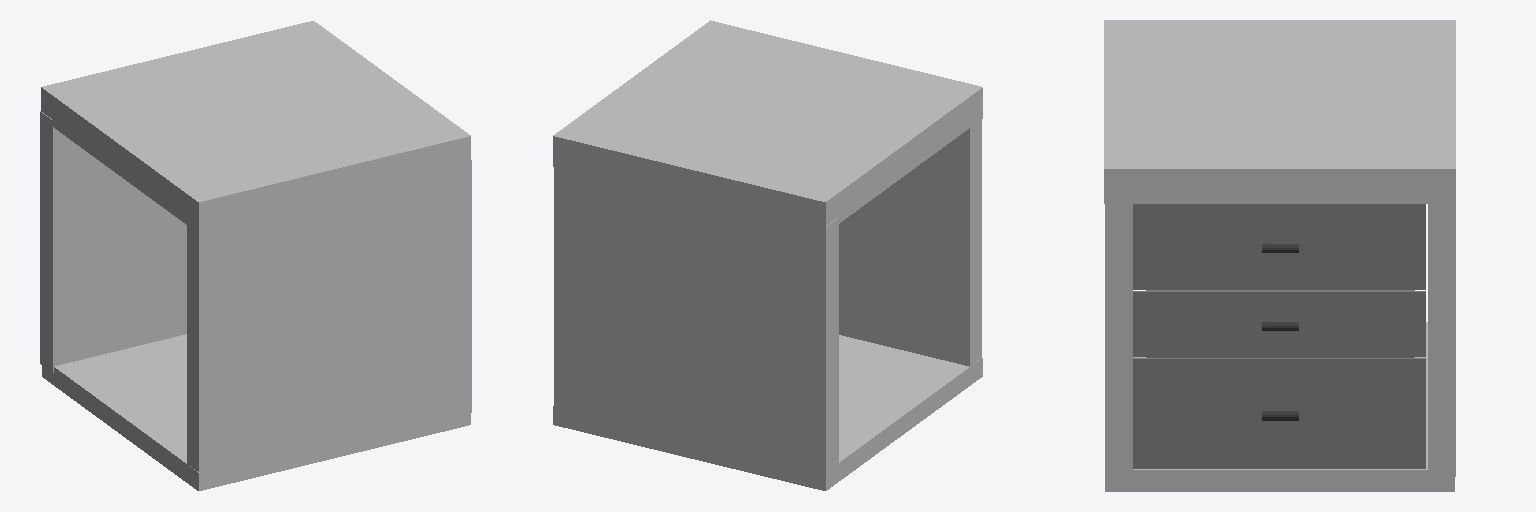
robot.urdf — my_urdf:
<?xml version='1.0' encoding='utf-8'?>
<robot name="my_urdf">

    <link name="base_link">
        <visual>
            <origin xyz="0 0 0" rpy="0.0 0.0 0.0" />
            <material name="white">
                <color rgba="0.8 0.8 0.8 1" />
            </material>
            <geometry>
                <mesh filename="../meshes/cabinet.obj" scale="1 1 1" />
            </geometry>
        </visual>
        <collision>
            <origin xyz="0 0 0" rpy="0.0 0.0 0.0" />
            <geometry>
                <mesh filename="../meshes/cabinet.obj" scale="1 1 1" />
            </geometry>
        </collision>
        <inertial>
            <mass value="1" />
            <inertia ixx="1e-4" ixy="0" ixz="0" iyy="1e-4" iyz="0" izz="1e-4" />
        </inertial>
    </link>

    <link name="drawer0">
        <visual>
            <origin xyz="0 0 0" rpy="0 0 0" />
            <material name="grey">
                <color rgba="0.55 0.55 0.55 1" />
            </material>
            <geometry>
                <mesh filename="../meshes/parts/drawer.obj" scale="1 3.98 1.3133333333333332" />
            </geometry>
        </visual>
        <collision>
            <origin xyz="0 0 0" rpy="0 0 0" />
            <geometry>
                <mesh filename="../meshes/parts/drawer.obj" scale="1 3.98 1.3133333333333332" />
            </geometry>
            <contact>
                <friction>
                    <mu>0.8</mu>
                    <mu2>0.8</mu2>
                </friction>
            </contact>
        </collision>
        <inertial>
            <mass value="0.2" />
            <inertia ixx="1e-4" ixy="0" ixz="0" iyy="1e-4" iyz="0" izz="1e-4" />
        </inertial>
    </link>

    <joint name="drawer0_to_base_link" type="prismatic">
        <axis xyz="1 0 0" />
        <limit effort="5" lower="0" upper="0.4" velocity="2.283" />
        <origin xyz="0 0.0 0.6666666666666666" rpy="0.0 0.0 0.0" />
        <parent link="base_link" />
        <child link="drawer0" />
    </joint>

    <link name="drawer1">
        <visual>
            <origin xyz="0 0 0" rpy="0 0 0" />
            <material name="grey">
                <color rgba="0.55 0.55 0.55 1" />
            </material>
            <geometry>
                <mesh filename="../meshes/parts/drawer.obj" scale="1 3.98 0.98" />
            </geometry>
        </visual>
        <collision>
            <origin xyz="0 0 0" rpy="0 0 0" />
            <geometry>
                <mesh filename="../meshes/parts/drawer.obj" scale="1 3.98 0.98" />
            </geometry>
            <contact>
                <friction>
                    <mu>0.8</mu>
                    <mu2>0.8</mu2>
                </friction>
            </contact>
        </collision>
        <inertial>
            <mass value="0.2" />
            <inertia ixx="1e-4" ixy="0" ixz="0" iyy="1e-4" iyz="0" izz="1e-4" />
        </inertial>
    </link>

    <joint name="drawer1_to_base_link" type="prismatic">
        <axis xyz="1 0 0" />
        <limit effort="5" lower="0" upper="0.4" velocity="2.283" />
        <origin xyz="0 0.0 0.4166666666666667" rpy="0.0 0.0 0.0" />
        <parent link="base_link" />
        <child link="drawer1" />
    </joint>

    <link name="drawer2">
        <visual>
            <origin xyz="0 0 0" rpy="0 0 0" />
            <material name="grey">
                <color rgba="0.55 0.55 0.55 1" />
            </material>
            <geometry>
                <mesh filename="../meshes/parts/drawer.obj" scale="1 3.98 1.6466666666666667" />
            </geometry>
        </visual>
        <collision>
            <origin xyz="0 0 0" rpy="0 0 0" />
            <geometry>
                <mesh filename="../meshes/parts/drawer.obj" scale="1 3.98 1.6466666666666667" />
            </geometry>
            <contact>
                <friction>
                    <mu>0.8</mu>
                    <mu2>0.8</mu2>
                </friction>
            </contact>
        </collision>
        <inertial>
            <mass value="0.2" />
            <inertia ixx="1e-4" ixy="0" ixz="0" iyy="1e-4" iyz="0" izz="1e-4" />
        </inertial>
    </link>

    <joint name="drawer2_to_base_link" type="prismatic">
        <axis xyz="1 0 0" />
        <limit effort="5" lower="0" upper="0.4" velocity="2.283" />
        <origin xyz="0 0.0 0.0" rpy="0.0 0.0 0.0" />
        <parent link="base_link" />
        <child link="drawer2" />
    </joint>

    <link name="handle3">
        <visual>
            <origin xyz="0 0 0" rpy="0 0 0" />
            <geometry>
                <mesh filename="../meshes/parts/handle.obj" scale="1 1 1" />
            </geometry>
            <material name="dark grey"><color rgba="0.3 0.3 0.3 1"/></material>
        </visual>
        <collision>
            <origin xyz="0.06 0 0" rpy="0 0 0" />
            <geometry>
                <mesh filename="../meshes/parts/handle.obj" scale="1 1 1" />
            </geometry>
            <contact>
                <friction>
                    <mu>0.8</mu>
                    <mu2>0.8</mu2>
                </friction>
            </contact>
        </collision>
        <inertial>
            <mass value="0.2" />
            <inertia ixx="1e-4" ixy="0" ixz="0" iyy="1e-4" iyz="0" izz="1e-4" />
        </inertial>
    </link>

    <joint name="handle3_to_drawer0" type="fixed">
        <axis xyz="0 0 1" />
        <limit effort="5" lower="0" upper="0.4" velocity="2.283" />
        <origin xyz="0 0.5 0.16666666666666667" rpy="1.5707963267948963 0.0 0.0" />
        <parent link="drawer0" />
        <child link="handle3" />
    </joint>
    <disable_collisions link1="base_link" link2="handle3" />


    <link name="handle4">
        <visual>
            <origin xyz="0 0 0" rpy="0 0 0" />
            <material name="dark grey"><color rgba="0.3 0.3 0.3 1"/></material>
            <geometry>
                <mesh filename="../meshes/parts/handle.obj" scale="1 1 1" />
            </geometry>
        </visual>
        <collision>
            <origin xyz="0.06 0 0" rpy="0 0 0" />
            <geometry>
                <mesh filename="../meshes/parts/handle.obj" scale="1 1 1" />
            </geometry>
            <contact>
                <friction>
                    <mu>0.8</mu>
                    <mu2>0.8</mu2>
                </friction>
            </contact>
        </collision>
        <inertial>
            <mass value="0.2" />
            <inertia ixx="1e-4" ixy="0" ixz="0" iyy="1e-4" iyz="0" izz="1e-4" />
        </inertial>
    </link>

    <joint name="handle4_to_drawer1" type="fixed">
        <axis xyz="0 0 1" />
        <limit effort="5" lower="0" upper="0.4" velocity="2.283" />
        <origin xyz="0 0.5 0.125" rpy="1.5707963267948963 0.0 0.0" />
        <parent link="drawer1" />
        <child link="handle4" />
    </joint>

    <link name="handle5">
        <visual>
            <origin xyz="0 0 0" rpy="0 0 0" />
            <material name="dark grey"><color rgba="0.3 0.3 0.3 1"/></material>
            <geometry>
                <mesh filename="../meshes/parts/handle.obj" scale="1 1 1" />
            </geometry>
        </visual>
        <collision>
            <origin xyz="0.06 0 0" rpy="0 0 0" />
            <geometry>
                <mesh filename="../meshes/parts/handle.obj" scale="1 1 1" />
            </geometry>
            <contact>
                <friction>
                    <mu>0.8</mu>
                    <mu2>0.8</mu2>
                </friction>
            </contact>
        </collision>
        <inertial>
            <mass value="0.2" />
            <inertia ixx="1e-4" ixy="0" ixz="0" iyy="1e-4" iyz="0" izz="1e-4" />
        </inertial>
    </link>

    <joint name="handle5_to_drawer2" type="fixed">
        <axis xyz="0 0 1" />
        <limit effort="5" lower="0" upper="0.4" velocity="2.283" />
        <origin xyz="0 0.5 0.20833333333333334" rpy="1.5707963267948963 0.0 0.0" />
        <parent link="drawer2" />
        <child link="handle5" />
    </joint>
    <disable_collisions link1="base_link" link2="drawer0" />
    <disable_collisions link1="base_link" link2="drawer1" />
    <disable_collisions link1="base_link" link2="drawer2" />

    <disable_collisions link1="base_link" link2="handle3" />
    <disable_collisions link1="base_link" link2="handle4" />
    <disable_collisions link1="base_link" link2="handle5" />

    <disable_collisions link1="drawer0" link2="drawer1" />
    <disable_collisions link1="drawer1" link2="drawer2" />
    <disable_collisions link1="drawer0" link2="drawer2" />

    <disable_collisions link1="drawer0" link2="handle3" /> 
    
    <disable_collisions link1="drawer1" link2="handle4" />
    <disable_collisions link1="drawer0" link2="handle4" />
    <disable_collisions link1="drawer2" link2="handle4" />

    <disable_collisions link1="drawer2" link2="handle5" />
    <disable_collisions link1="drawer1" link2="handle5" />

</robot>

--- Render facts (derived) ---
The picture shows the robot from 3 angles, left to right: view 1: azimuth 30°, elevation 25°; view 2: azimuth 150°, elevation 25°; view 3: azimuth 270°, elevation 25°; orthographic projection.
Model my_urdf with 7 links and 6 joints (3 prismatic, 3 fixed), rooted at base_link, posed every joint at zero.
Links seen in each view (by area): view 1: base_link; view 2: base_link; view 3: base_link, drawer2, drawer0, drawer1.
Boxes of the visible links, <box> form: base_link: <box>40,21,471,490</box>; base_link: <box>553,20,982,490</box>; base_link: <box>1104,20,1455,491</box>; drawer2: <box>1133,357,1425,468</box>; drawer0: <box>1133,204,1425,289</box>; drawer1: <box>1133,290,1425,356</box>.
Bounding box of the posed robot: 1.22 × 1.19 × 1.21 m (x, y, z).
Meshes: 3 distinct files referenced, 7 mesh visuals loaded (3 OBJ).